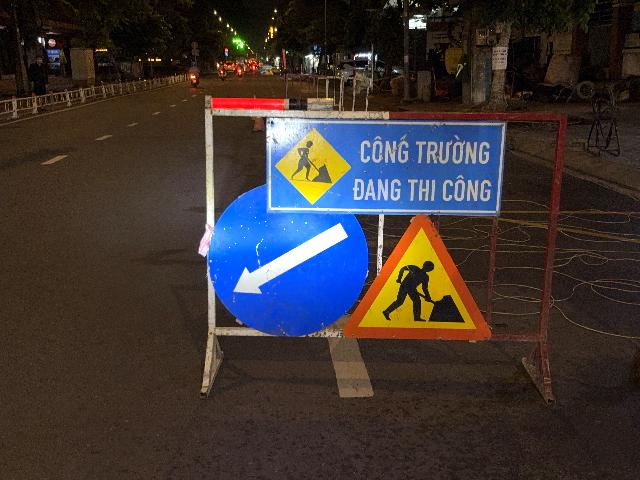cong-truong-dang-thi-cong: (343, 213, 493, 340)
huong-phai-di-vong-chuong-ngai-vat: (207, 181, 369, 337)
